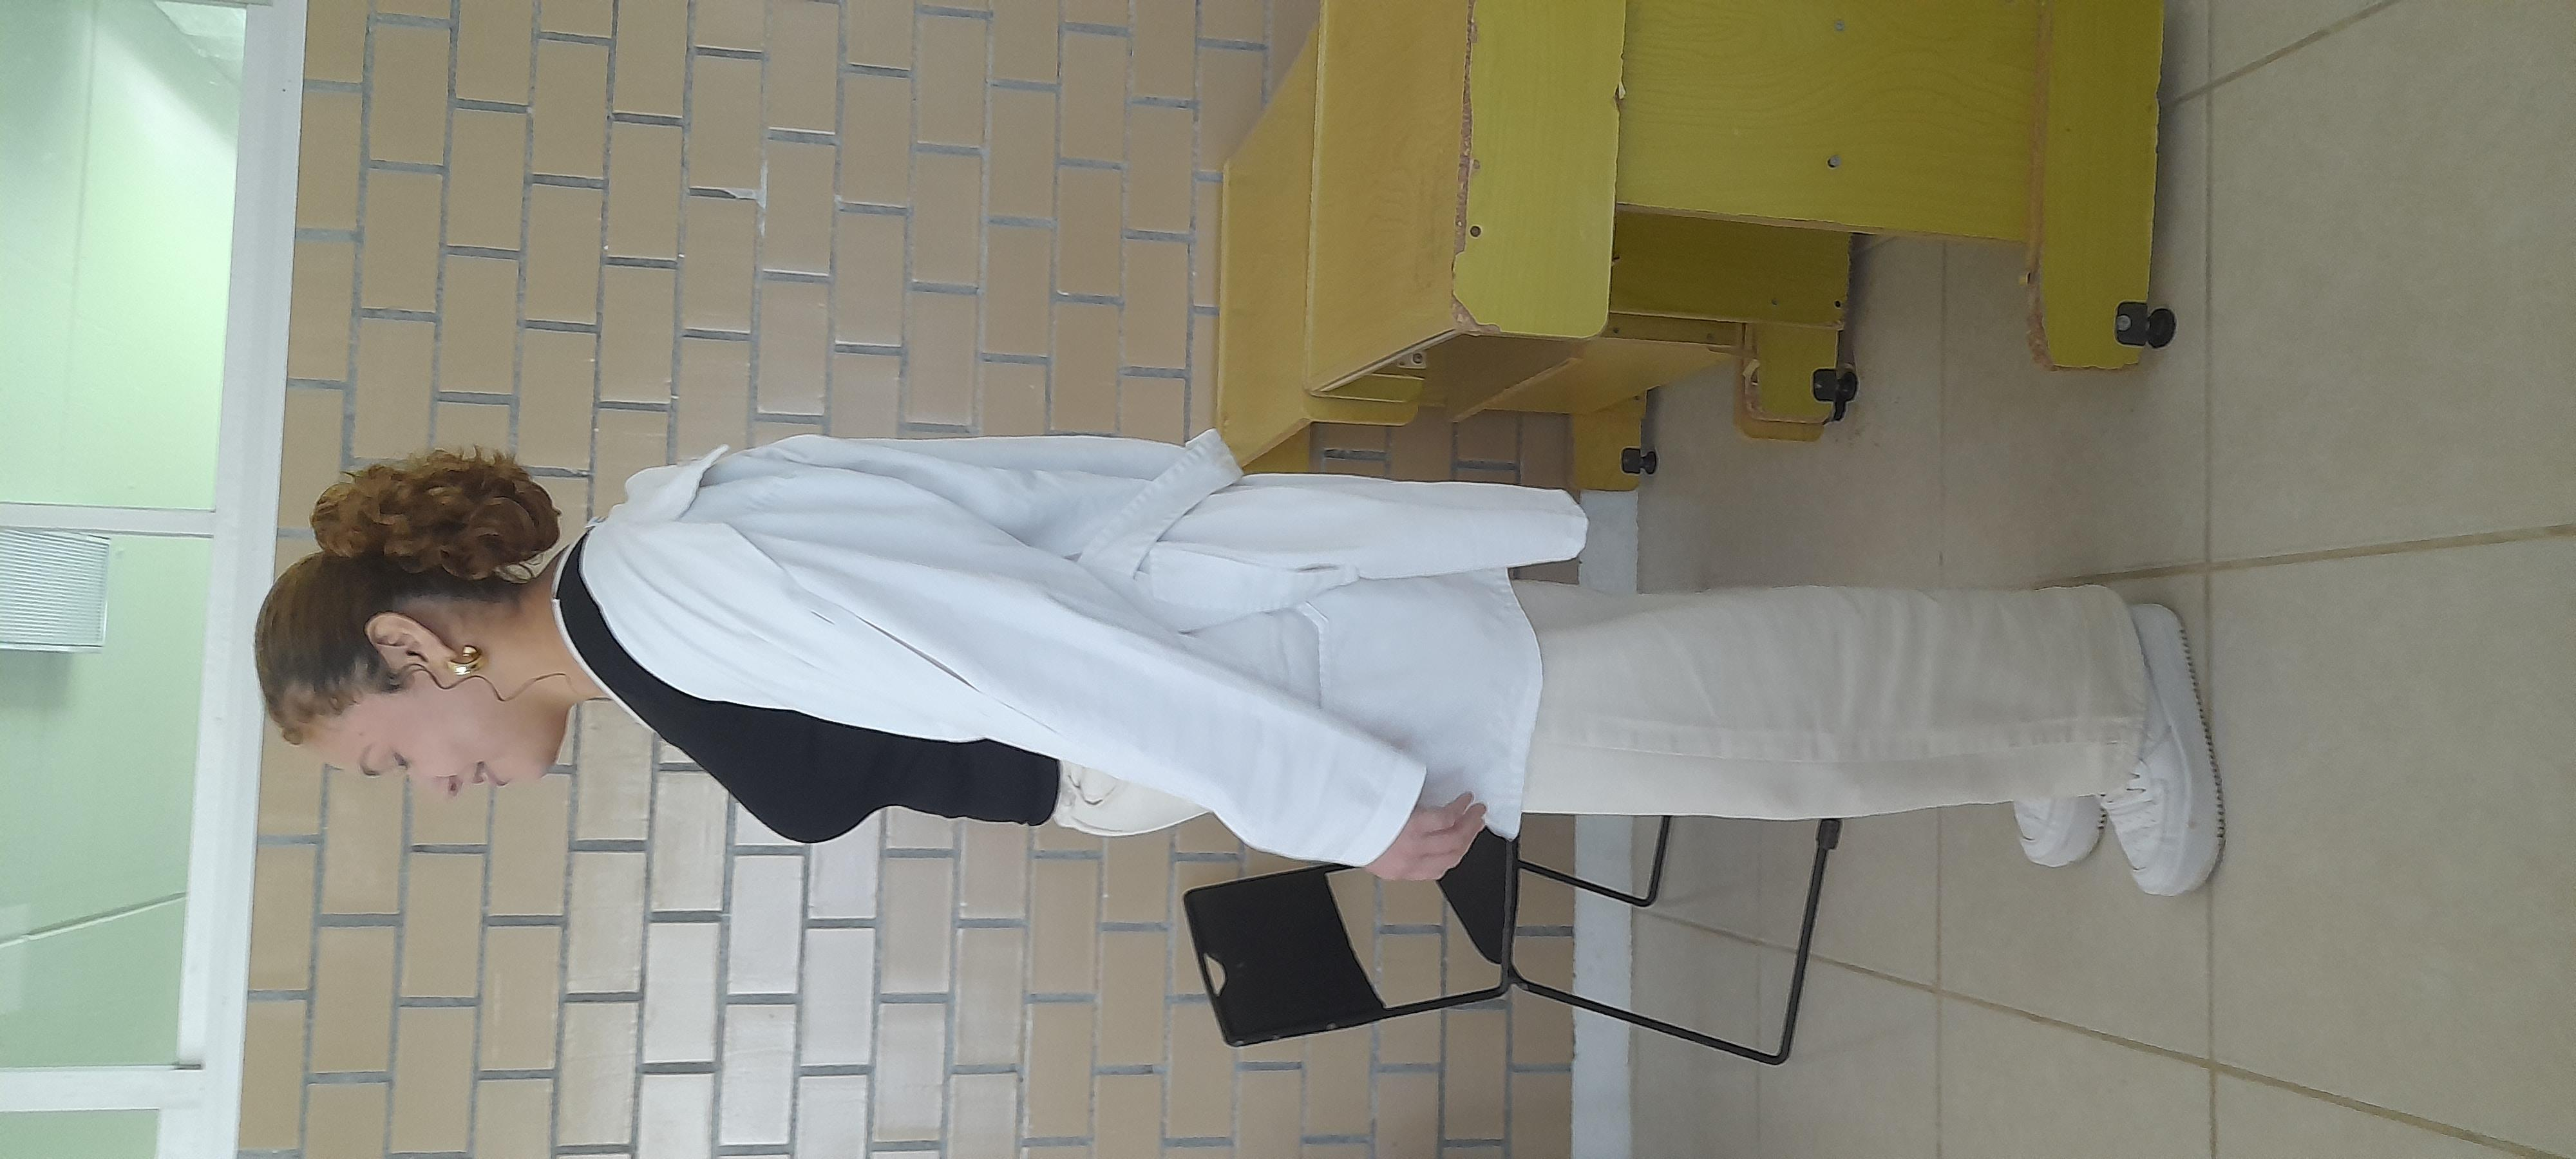Bata-Incorrecta: (401, 92, 1732, 1038)
